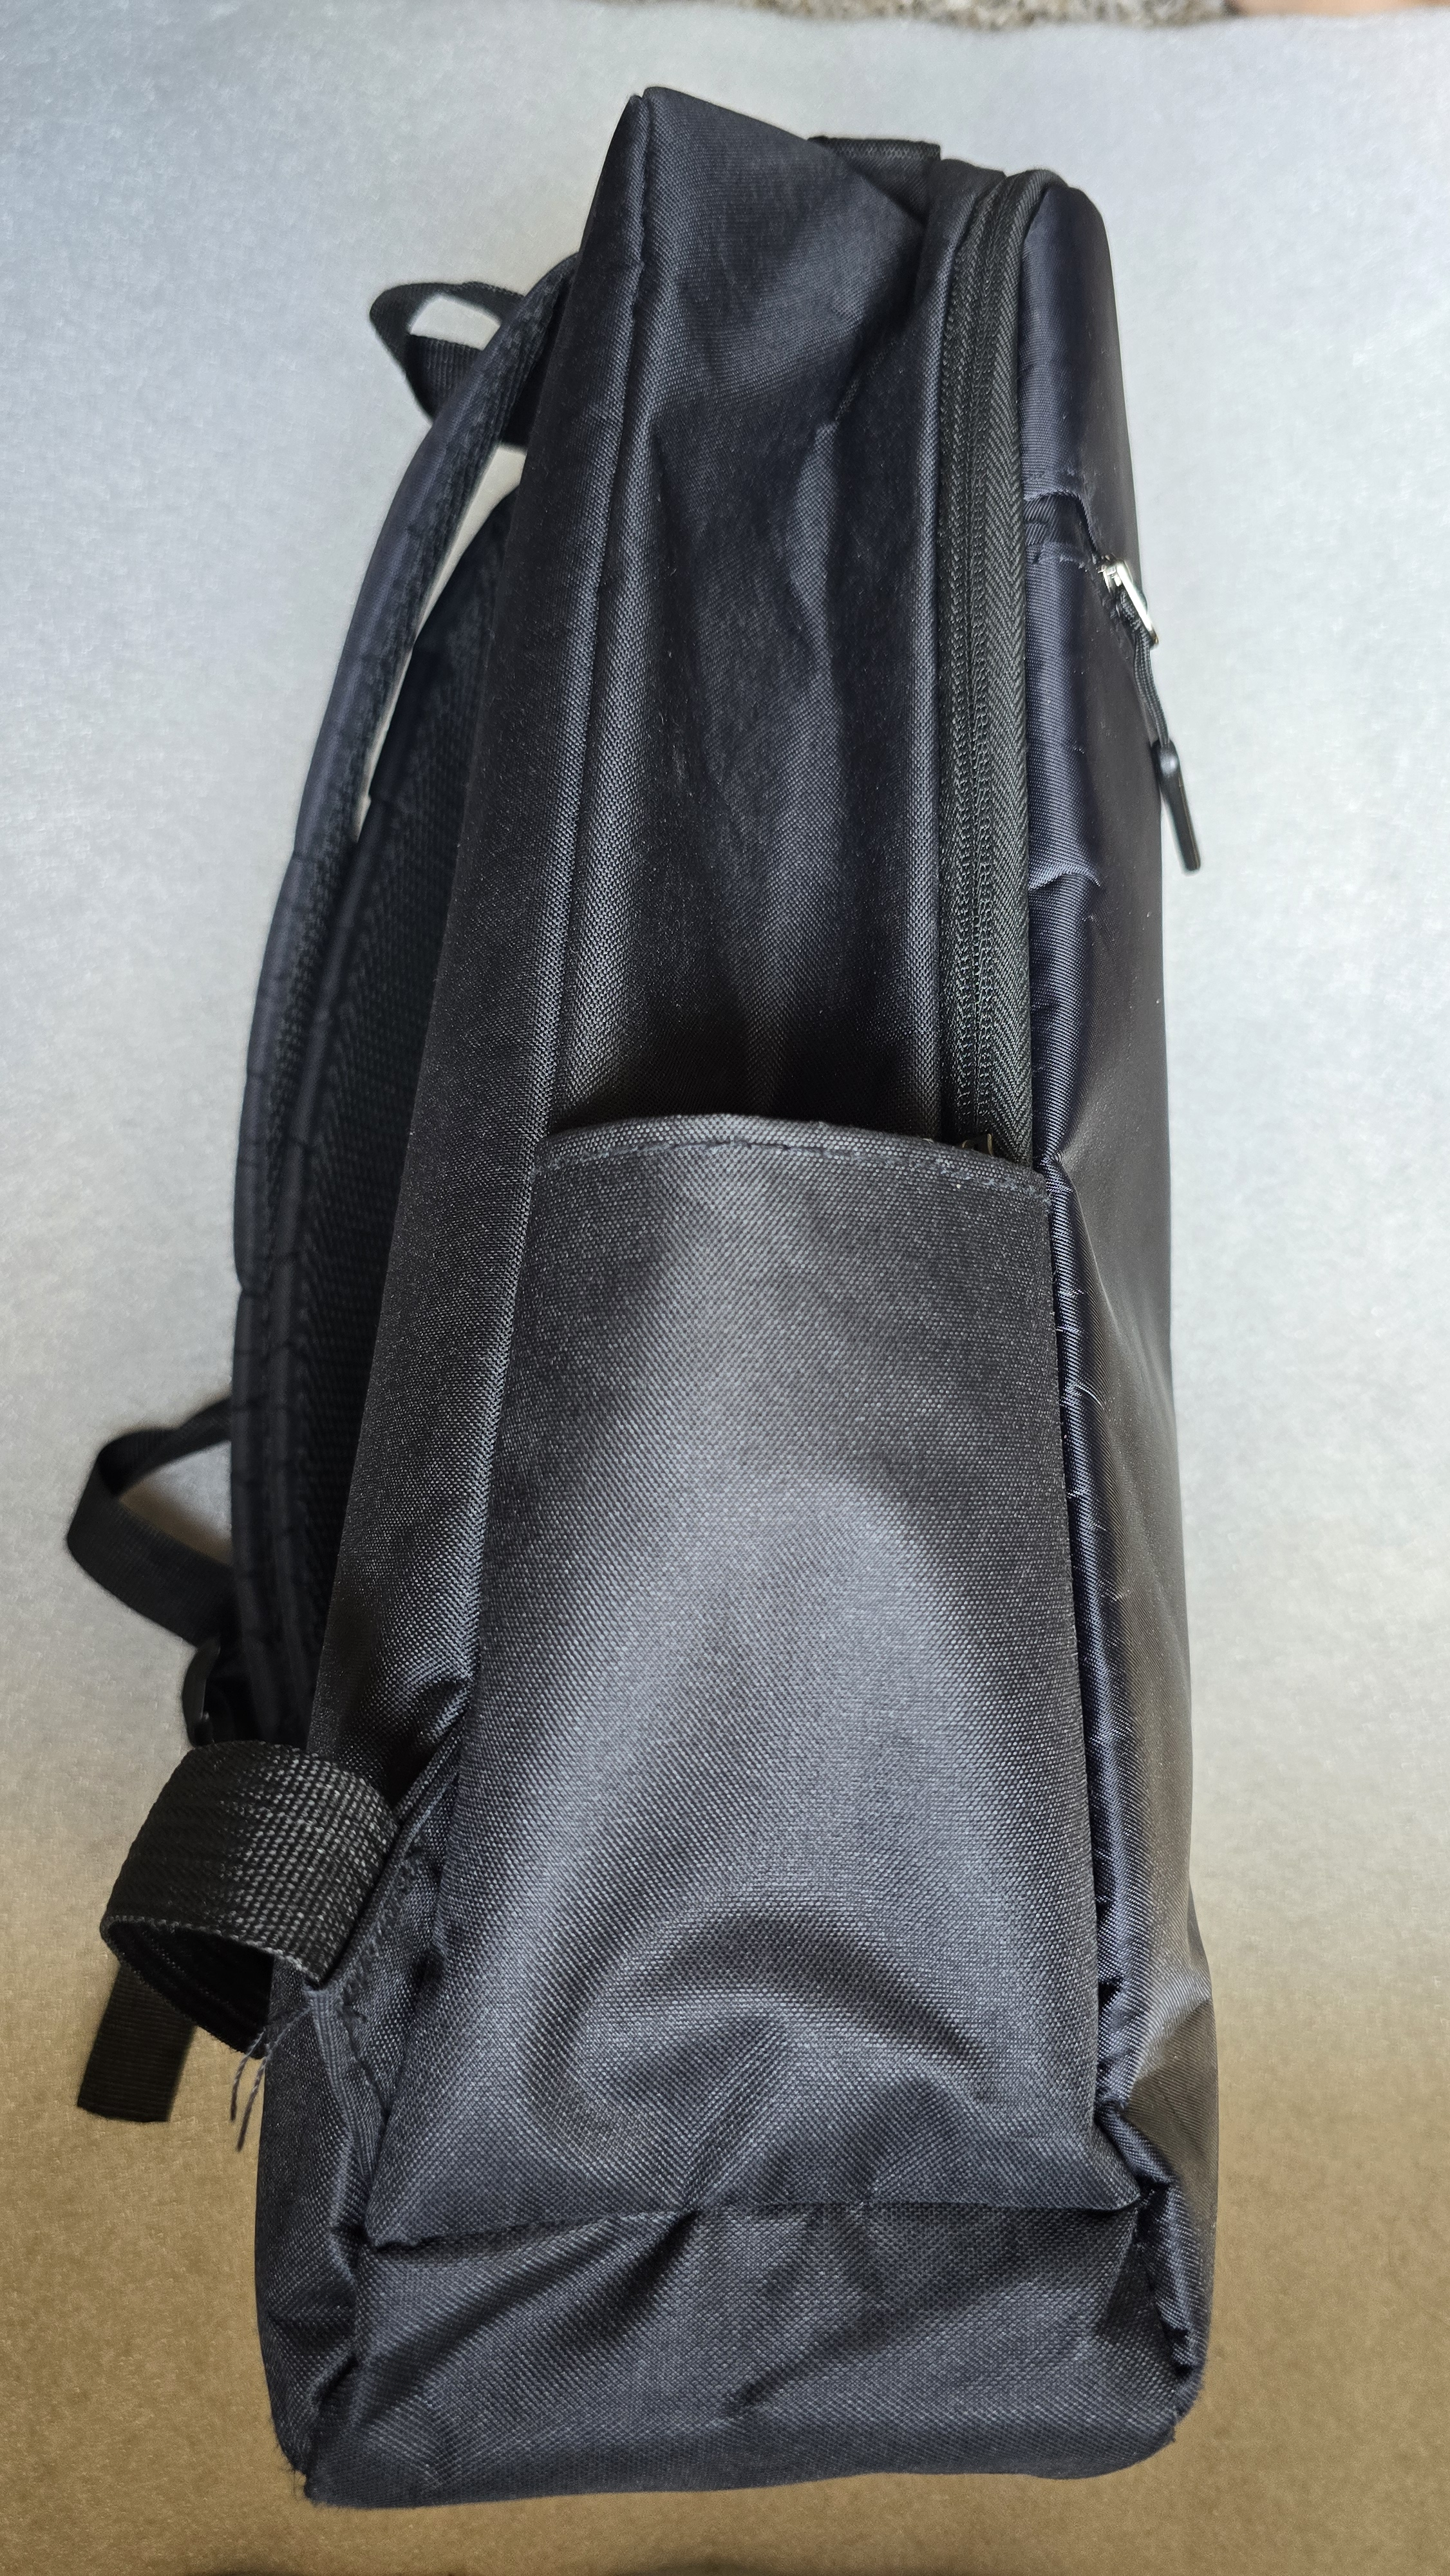bag: (157, 57, 1314, 2489)
